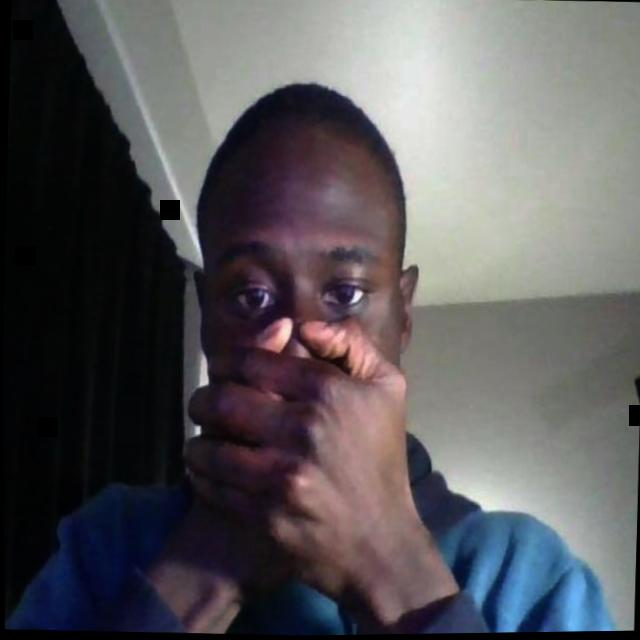NO-Mask: (193, 170, 406, 403)
